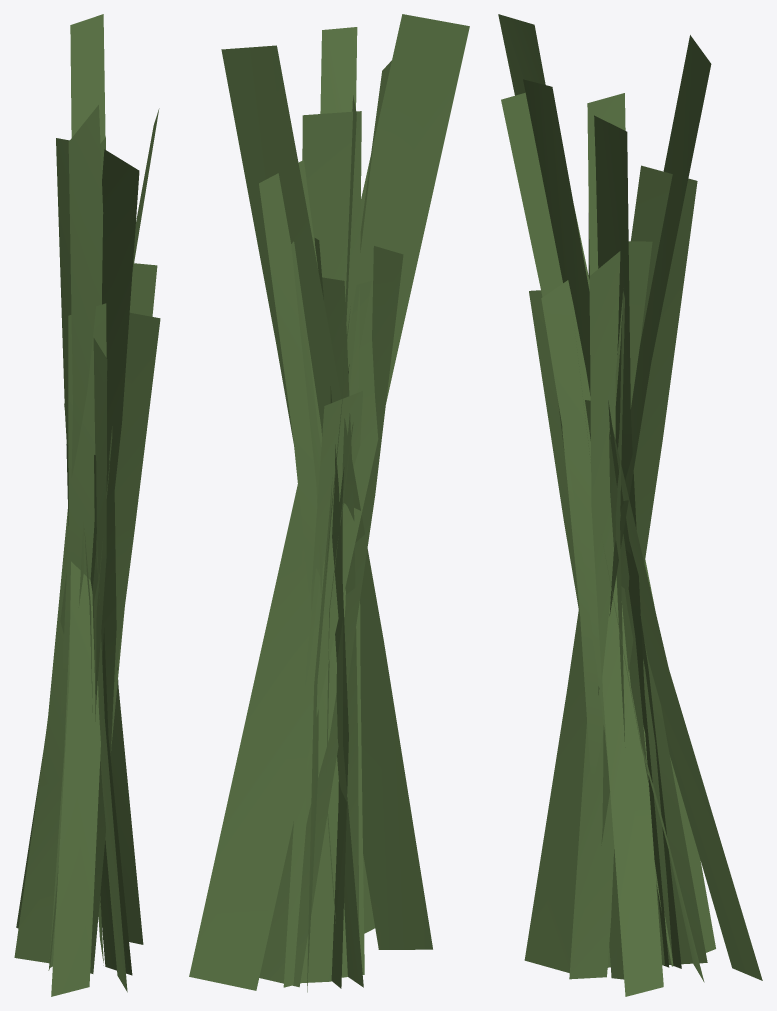
Rendered from plant_grassclump_high.glb.
3 views of the same model, side by side, from view 1: azimuth 30°, elevation 25°; view 2: azimuth 150°, elevation 25°; view 3: azimuth 270°, elevation 25° (orthographic). The views are drawn at different scales.
Size of the model in its own units: 0.1463 by 0.8837 by 0.2241.
